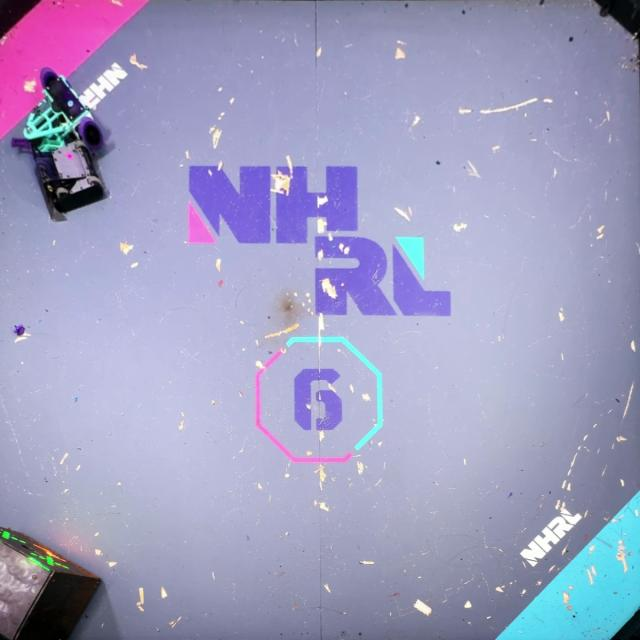housebot: (0, 525, 104, 640)
robot: (11, 66, 107, 162), (32, 136, 109, 215)
